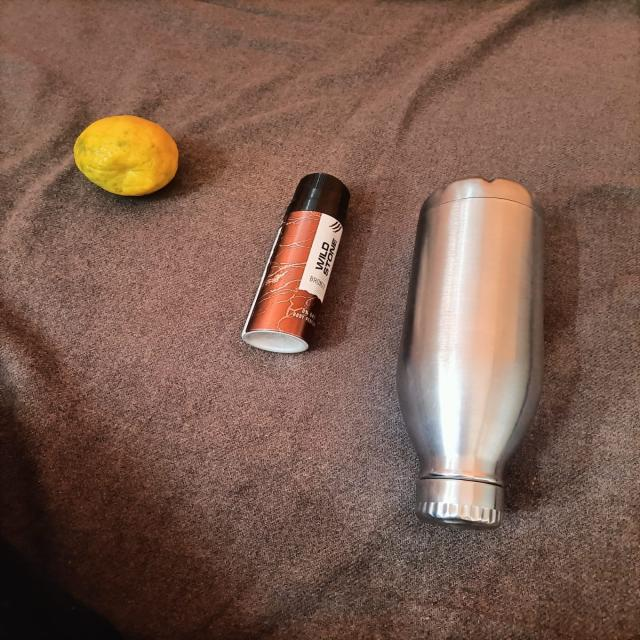bottle: (380, 194, 556, 564)
orange: (58, 105, 198, 208)
spray: (226, 152, 363, 378)
